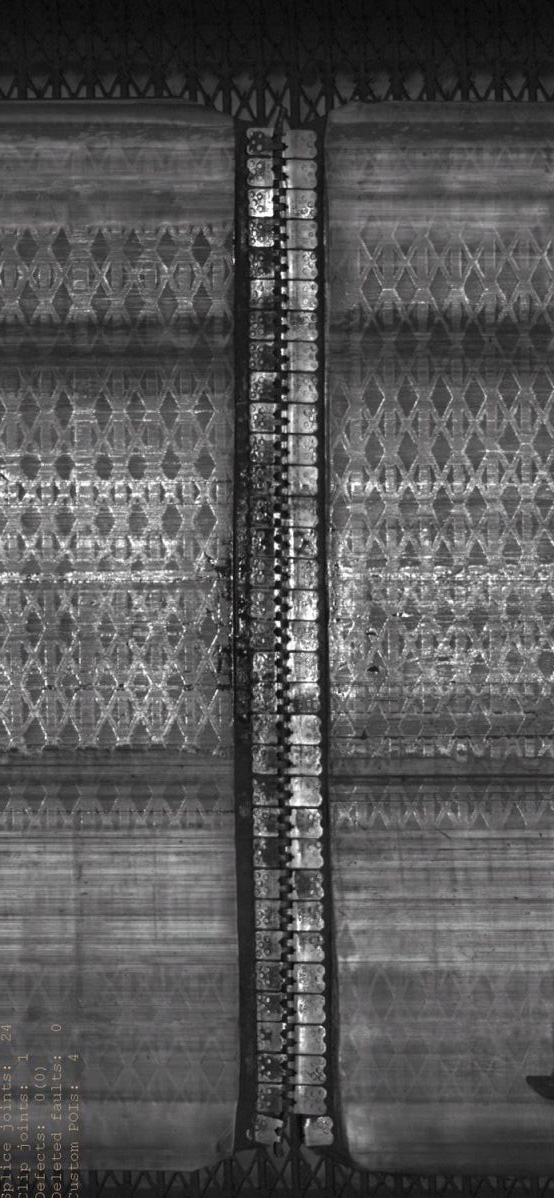splice: (228, 122, 345, 1162)
